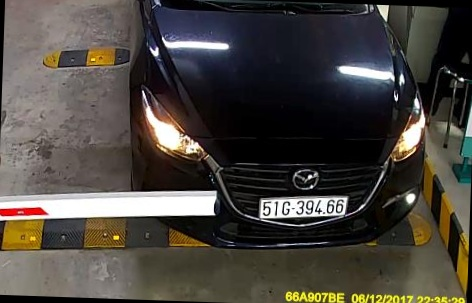plate: (249, 186, 352, 225)
